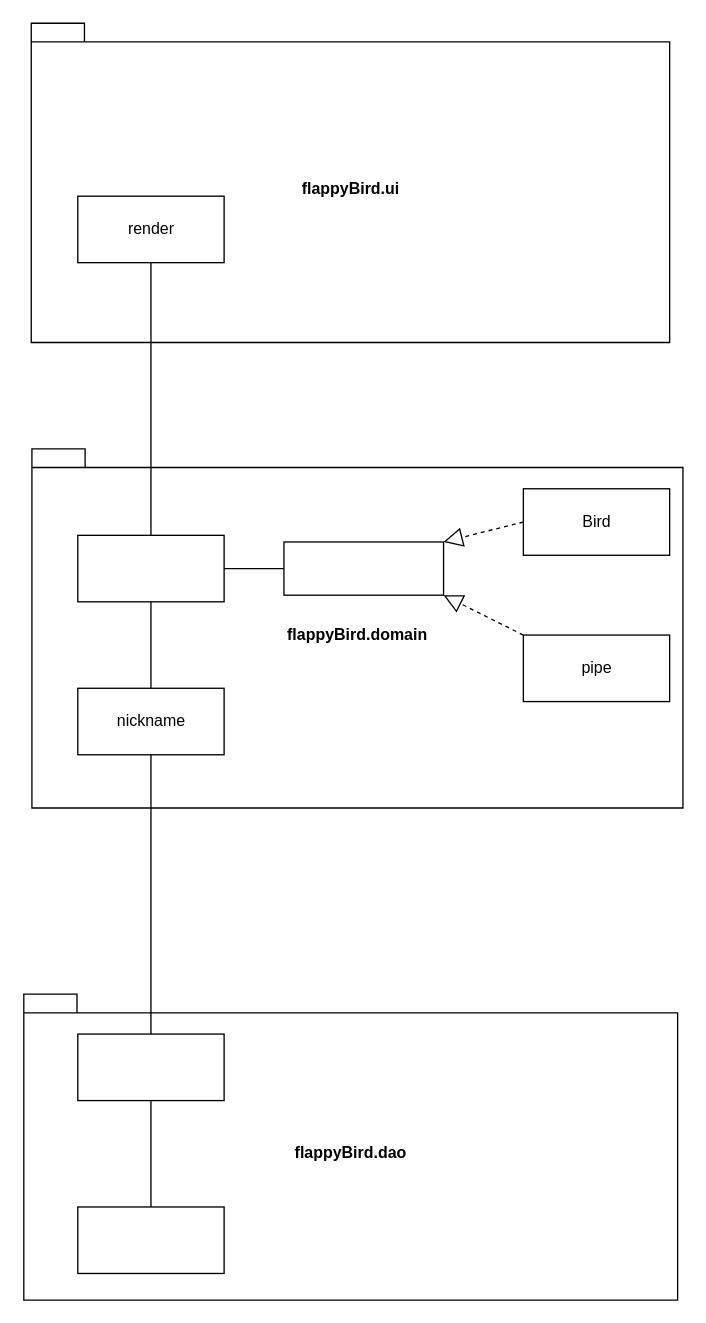
This 706x1323 diagram has some shape labels left out. The centre of each missing label's shape, as x and y in pixels:
fileNicknameDao: the point at 150,1239
game: the point at 150,568
nicnameDao: the point at 150,1067
«Interface» Sprite: the point at 363,568
